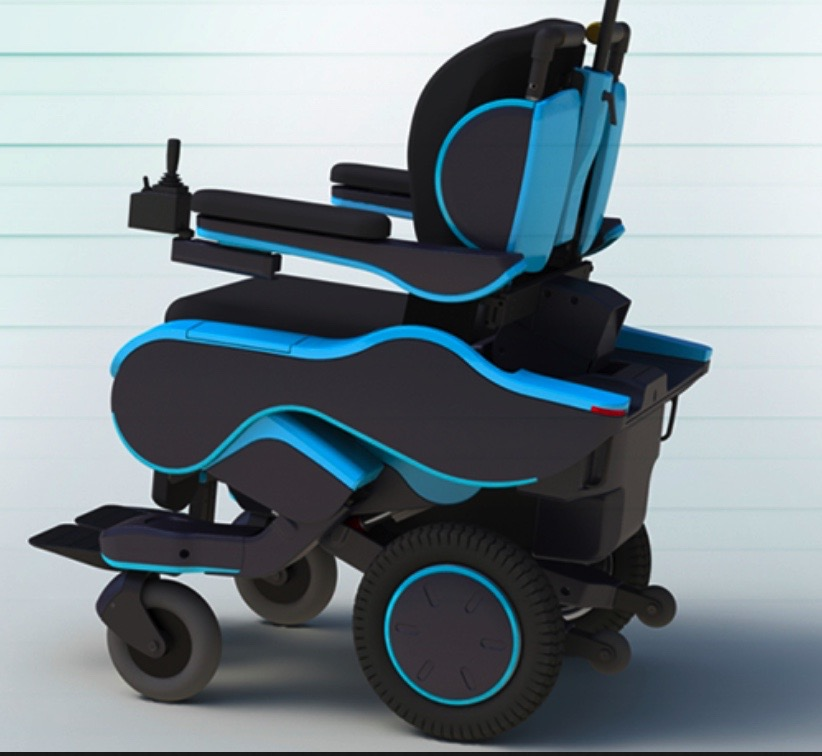wheelchair: (33, 24, 698, 717)
